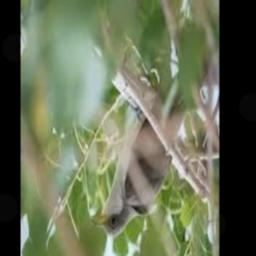Cuckoo: (90, 71, 185, 237)
